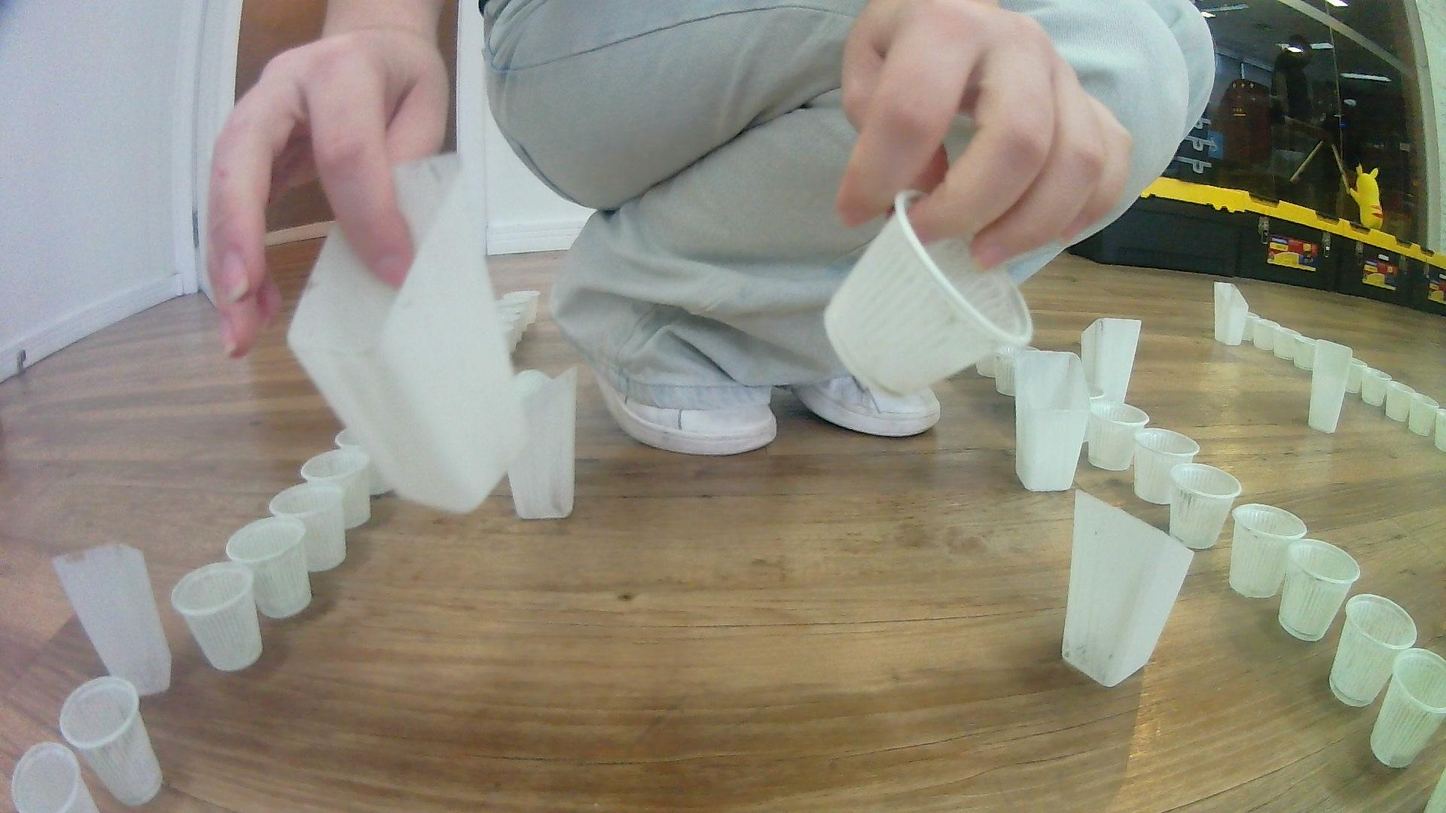erva_daninha: (283, 154, 516, 520), (1060, 486, 1195, 691), (53, 543, 173, 699), (1013, 352, 1092, 494), (507, 369, 578, 522), (1078, 316, 1143, 412), (1308, 338, 1353, 436), (1211, 280, 1251, 348)
planta: (820, 190, 1037, 400), (59, 678, 164, 809), (170, 561, 264, 673), (1329, 592, 1419, 708), (1368, 647, 1446, 769), (225, 516, 314, 621), (1277, 539, 1362, 643), (1228, 504, 1310, 599), (269, 481, 347, 574), (1170, 462, 1243, 552), (9, 743, 102, 813), (299, 447, 373, 531), (1133, 426, 1201, 509), (1085, 401, 1152, 473), (333, 431, 395, 497), (995, 347, 1026, 398), (496, 290, 541, 325), (1409, 391, 1441, 439), (976, 340, 1010, 379), (1362, 369, 1395, 408), (1386, 381, 1416, 423), (498, 308, 530, 343), (1292, 333, 1317, 371), (1273, 325, 1298, 361), (1252, 318, 1278, 352), (1346, 358, 1369, 394), (1240, 311, 1258, 343), (1434, 407, 1446, 453), (502, 327, 520, 355)
